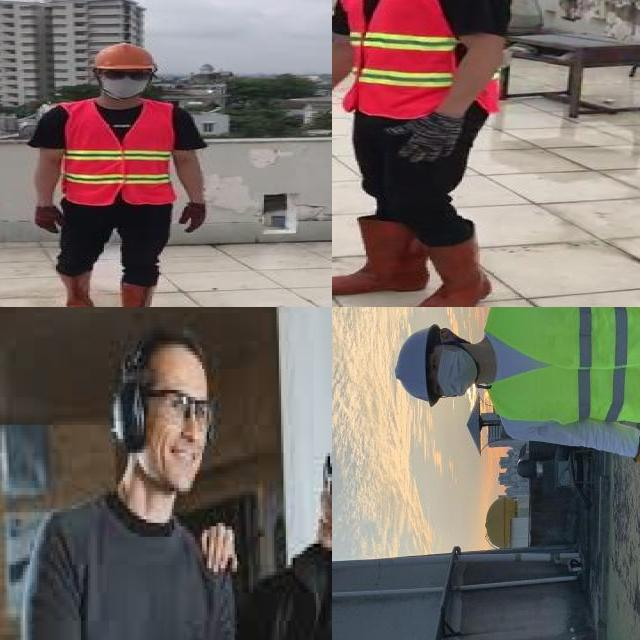Ear-protection: (107, 376, 146, 453)
boots: (332, 216, 428, 295), (410, 229, 495, 307), (52, 268, 95, 307), (118, 279, 159, 307)
face_mask: (100, 68, 150, 99)
glasses: (154, 376, 212, 432), (96, 66, 155, 82), (318, 445, 332, 512)
hand_glove: (389, 115, 462, 165), (175, 202, 207, 235), (33, 205, 67, 232)
head_helmet: (386, 320, 445, 412), (90, 42, 162, 71)
person: (18, 325, 255, 640), (332, 0, 529, 307), (27, 40, 214, 307), (350, 307, 640, 477)
vest: (337, 0, 504, 119), (477, 307, 640, 425), (60, 100, 175, 205)
